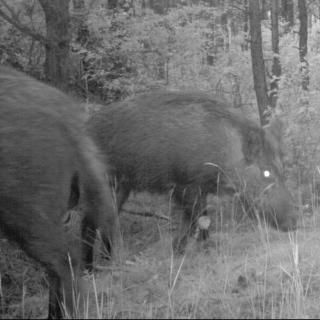Pig: (104, 95, 310, 244)
